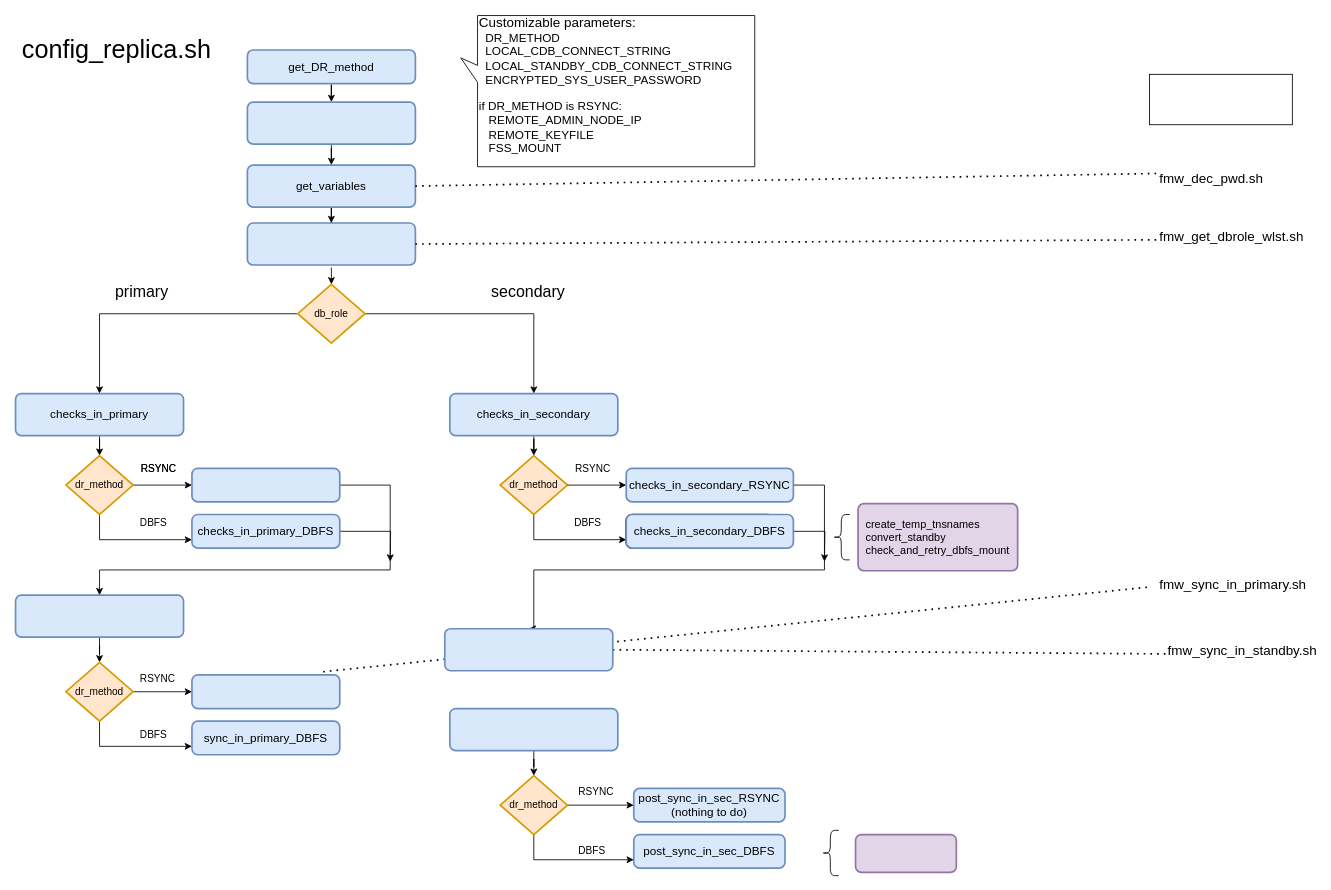
Image size: 1331x890. Some labels were removed from this diagram. The shapes that lost their labels are listed below. From the top down, each one's centre as x and y in pixels, then its label:
At (x=1220, y=99): "Other scripts used".
At (x=331, y=122): "get_PAAS_type".
At (x=331, y=243): "get_localdb_role".
At (x=265, y=484): "checks_in_primary_RSYNC".
At (x=99, y=616): "sync_in_primary".
At (x=528, y=649): "sync_in_secondary".
At (x=265, y=691): "sync_in_primary_RSYNC".
At (x=533, y=729): "post_sync_in_secondary".
At (x=905, y=853): "convert_standby".
